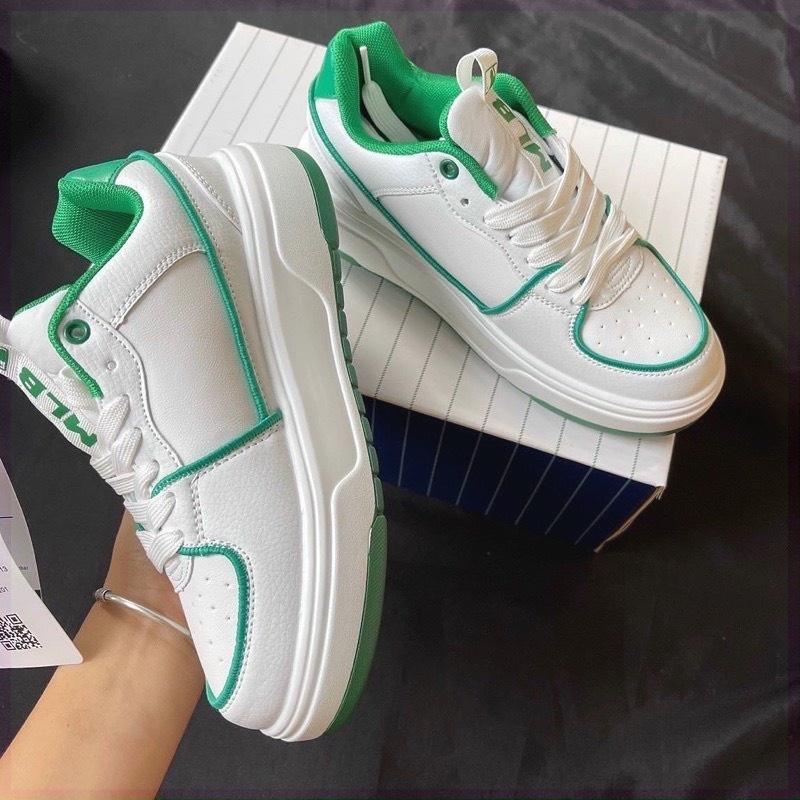sneakers: (3, 144, 388, 744), (293, 18, 726, 438)
